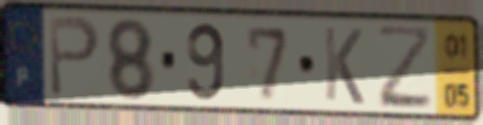7: (244, 24, 292, 103)
8: (104, 15, 159, 103)
9: (185, 20, 226, 102)
K: (321, 23, 366, 108)
P: (46, 13, 103, 101)
Z: (373, 23, 437, 112)
